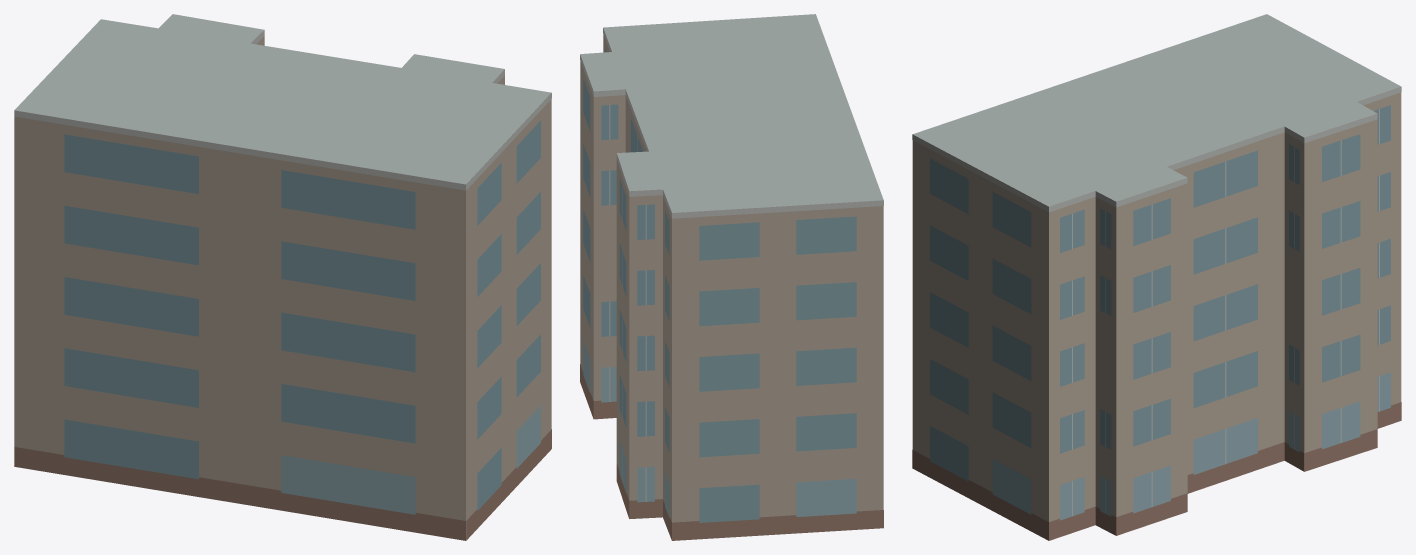
File: survey-upis-32857943.glb
The picture shows the model from 3 angles, left to right: view 1: azimuth 30°, elevation 25°; view 2: azimuth 150°, elevation 25°; view 3: azimuth 270°, elevation 25°; orthographic projection. The views are drawn at different scales.
Parts seen in each view (by area): view 1: survey-upis-32857943.tmp; view 2: survey-upis-32857943.tmp; view 3: survey-upis-32857943.tmp.
Part boxes in pixels (box(x1,y1,x2,y2)): survey-upis-32857943.tmp: box(14, 14, 551, 540); survey-upis-32857943.tmp: box(580, 14, 883, 540); survey-upis-32857943.tmp: box(912, 14, 1401, 540).
Size of the model in its own units: 17.58 by 14.2 by 18.84.
